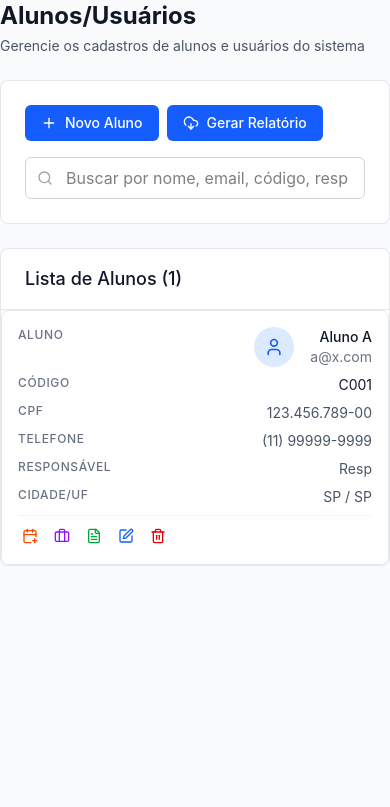
Students page › opens new student modal on click
The width and height of the screenshot is (390, 807).
Step 1. Click the button "Novo Aluno" → [92, 123], box [25,105,158,141]
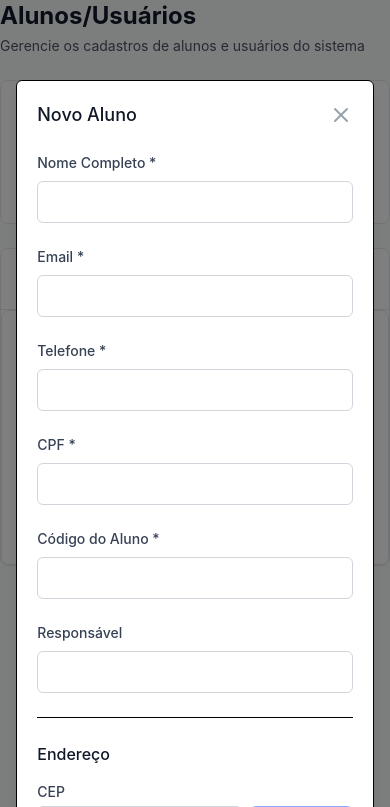
Expected: the heading "Novo Aluno" is shown, [37,101,137,129]
